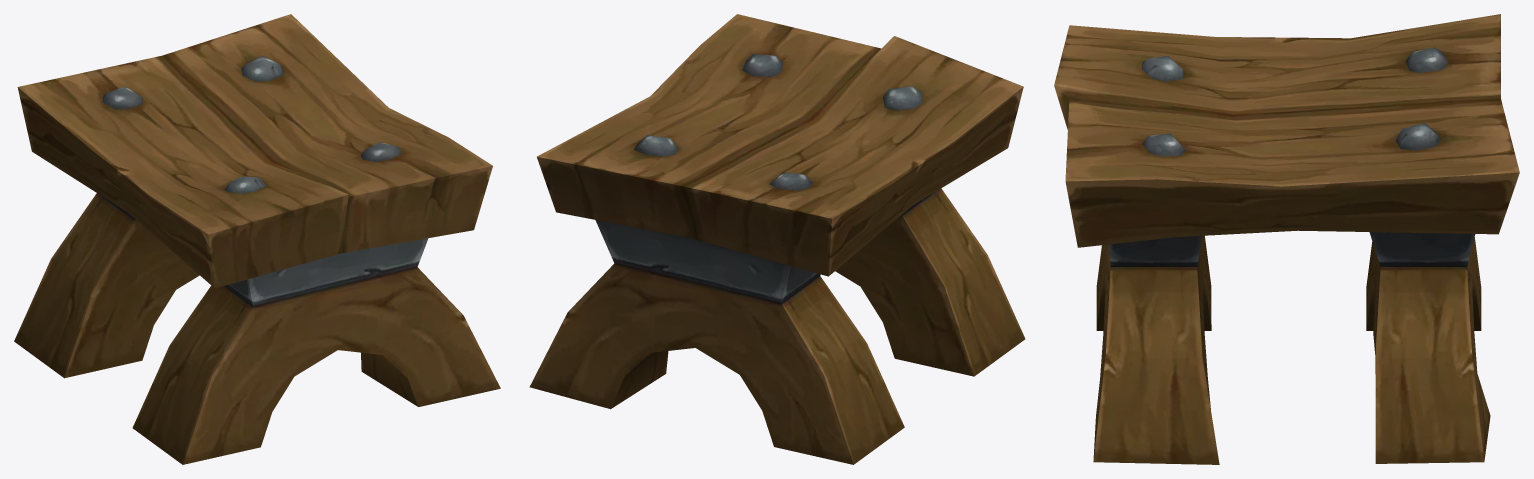
3 views of the same model, side by side, from view 1: azimuth 30°, elevation 25°; view 2: azimuth 150°, elevation 25°; view 3: azimuth 270°, elevation 25° (orthographic). The views are drawn at different scales.
Size of the model in its own units: 0.4927 by 0.365 by 0.5424.
1 material, 1 textured.
